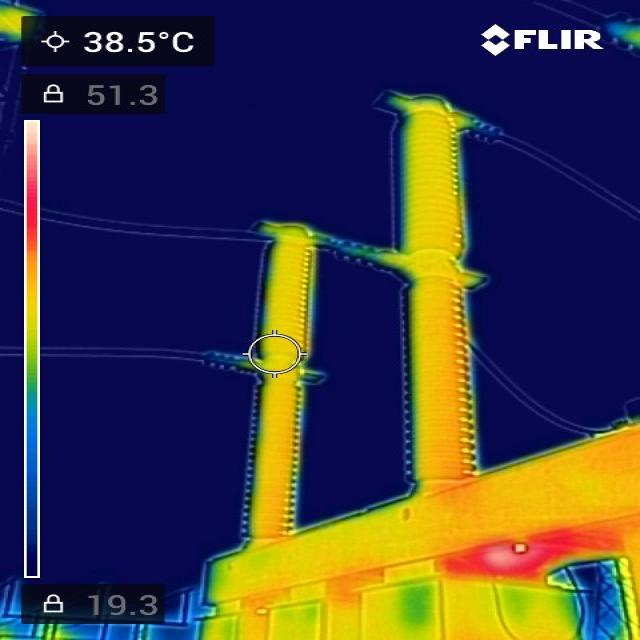Zona_Extrema: (445, 522, 623, 573)
